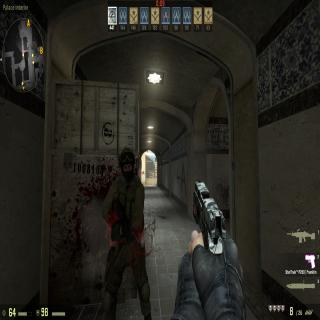CT-Body: (102, 148, 148, 320)
CT-Head: (119, 146, 135, 182)
